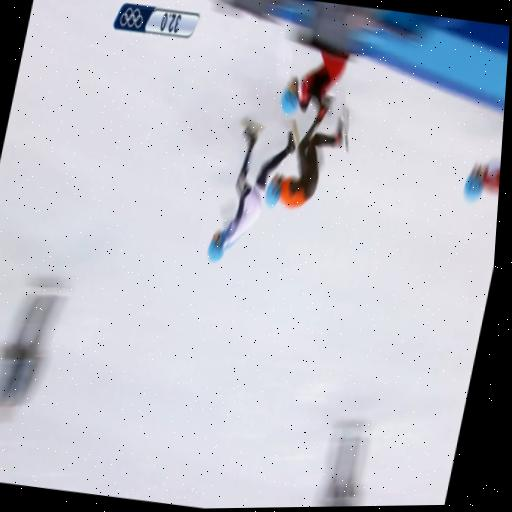Skater: (207, 121, 294, 261), (265, 100, 343, 207), (280, 49, 347, 114), (463, 162, 500, 201)
